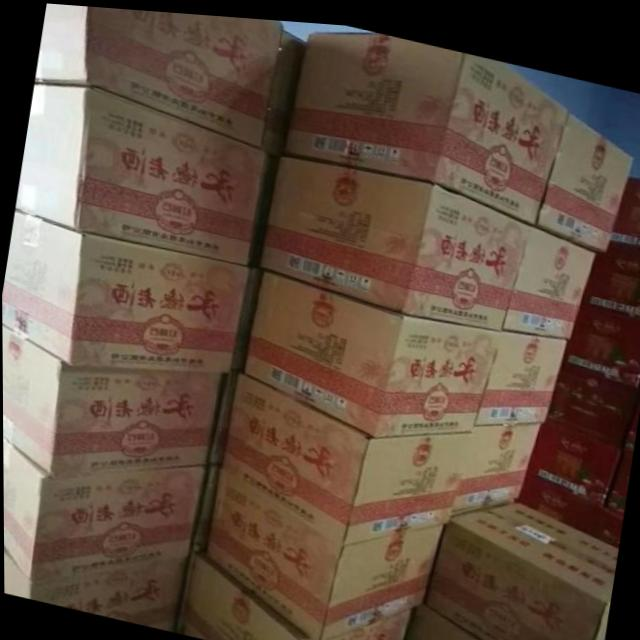box: (280, 26, 569, 217), (191, 454, 444, 639), (255, 151, 527, 322), (211, 367, 477, 540), (229, 263, 499, 433), (20, 81, 269, 264), (2, 210, 250, 371), (40, 3, 285, 145), (2, 323, 224, 472), (422, 491, 616, 640), (3, 435, 207, 576), (170, 549, 415, 640), (3, 546, 187, 629), (535, 104, 634, 242), (501, 217, 596, 332), (547, 337, 640, 438), (524, 404, 624, 496), (449, 412, 542, 508), (568, 238, 640, 357), (478, 322, 565, 420), (517, 462, 622, 543), (260, 26, 308, 146), (403, 600, 487, 640), (602, 166, 640, 245)
